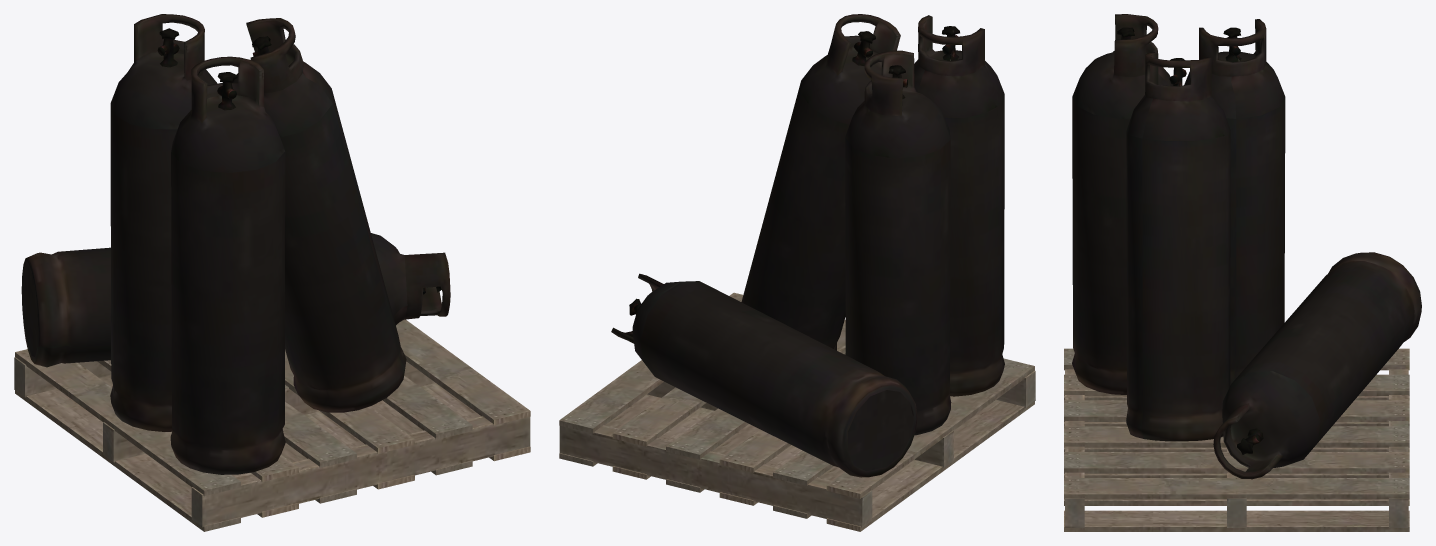
File: gas_canister_pallet_b_steel.glb
3 views of the same model, side by side, from view 1: azimuth 30°, elevation 25°; view 2: azimuth 150°, elevation 25°; view 3: azimuth 270°, elevation 25° (orthographic). The views are drawn at different scales.
Parts seen in each view (by area): view 1: gas_canister_pallet_b_LOD0; view 2: gas_canister_pallet_b_LOD0; view 3: gas_canister_pallet_b_LOD0.
Boxes of the visible parts, x1=… form: gas_canister_pallet_b_LOD0: x1=14, y1=14, x2=530, y2=531; gas_canister_pallet_b_LOD0: x1=559, y1=14, x2=1035, y2=531; gas_canister_pallet_b_LOD0: x1=1064, y1=14, x2=1421, y2=531.
Bounding box in the file's own units: 1.17 × 1.31 × 1.09.
2 materials, 2 textured.
